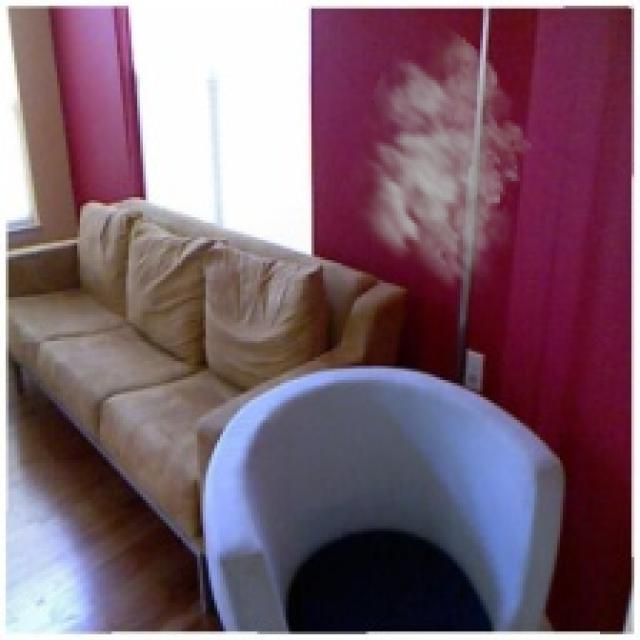smoke: (334, 20, 534, 300)
